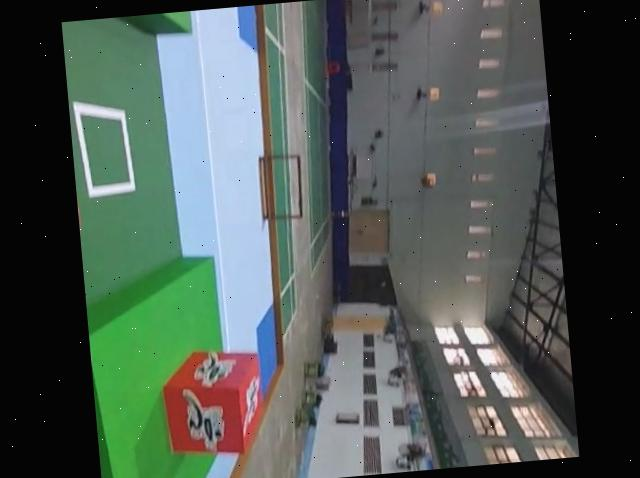R1: (158, 344, 269, 461)
